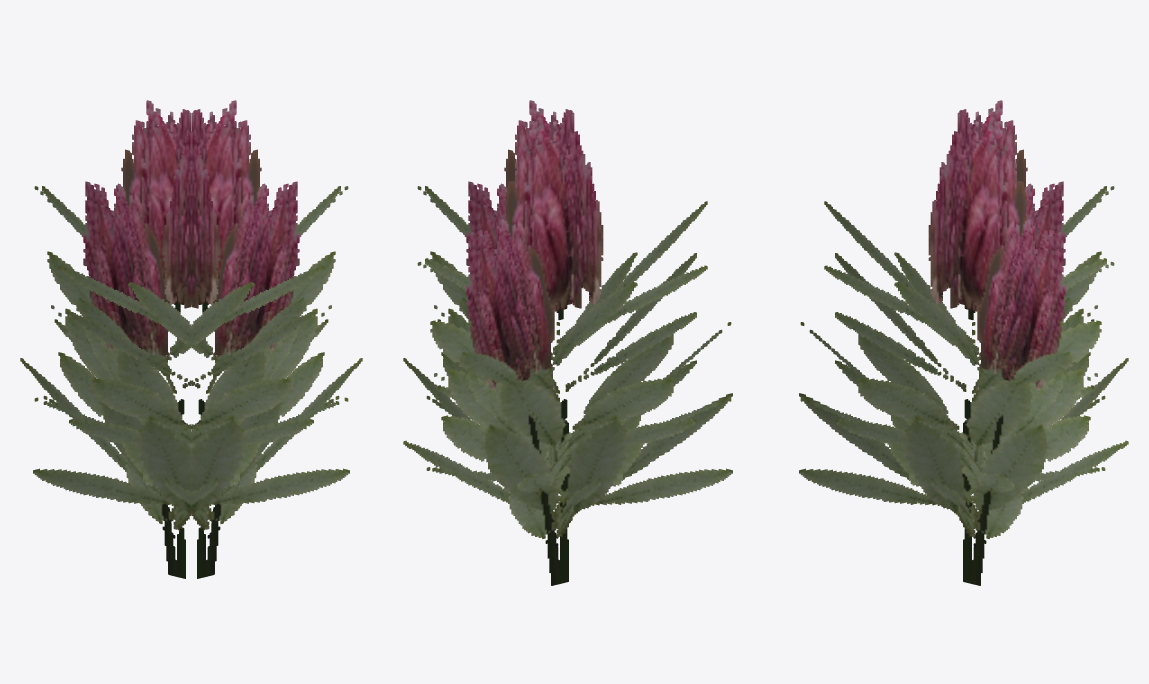
Rendered from category_mesh_flower_0_card.glb.
3 views of the same model, side by side, from view 1: azimuth 30°, elevation 25°; view 2: azimuth 150°, elevation 25°; view 3: azimuth 270°, elevation 25° (orthographic).
Visible parts, largest first — view 1: category_mesh_flower_0_card; view 2: category_mesh_flower_0_card; view 3: category_mesh_flower_0_card.
Boxes of the visible parts, bbox=[...] form: category_mesh_flower_0_card: bbox=[20, 100, 362, 578]; category_mesh_flower_0_card: bbox=[403, 100, 732, 585]; category_mesh_flower_0_card: bbox=[799, 100, 1128, 585].
Size of the model in its own units: 0.7695 by 1 by 0.6664.
Materials: 1 (1 with a texture image).
